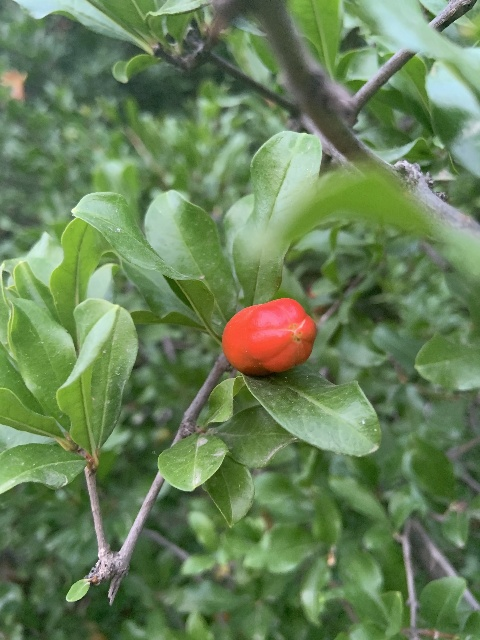bud: (222, 298, 316, 376)
